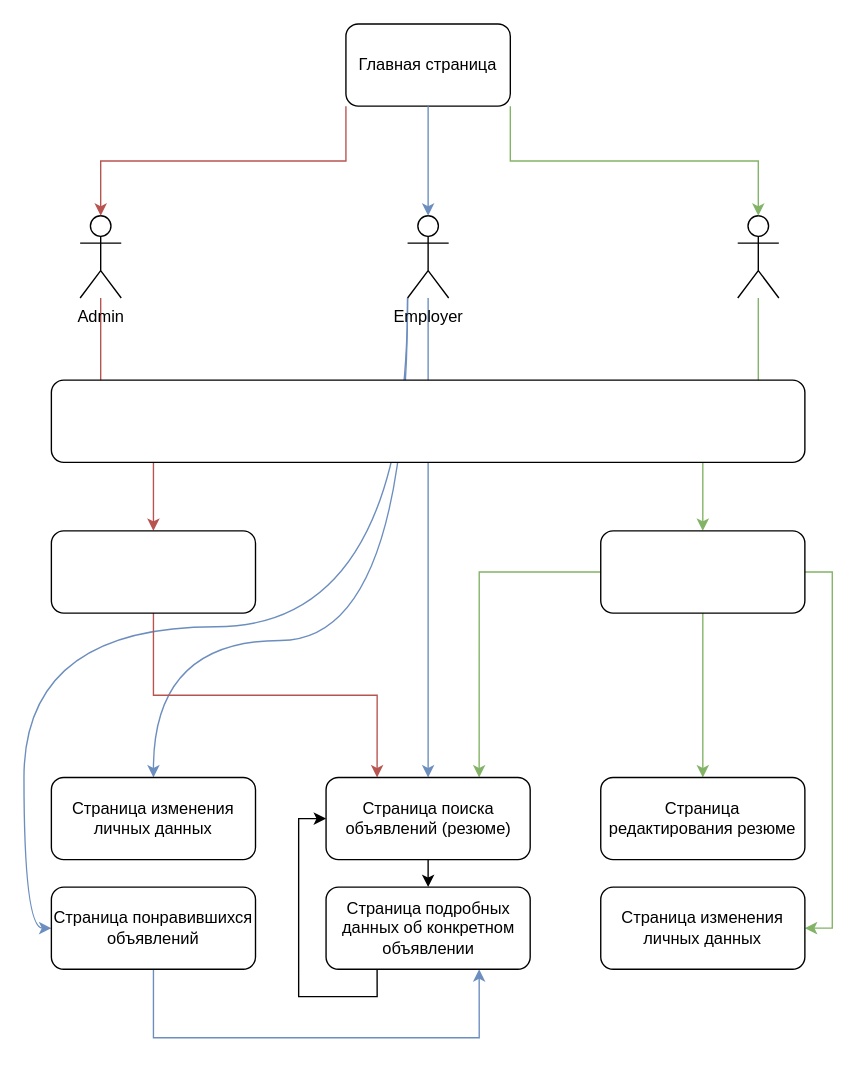
Some shapes in this 867 by 1073 pixel diagram are drawn without their labels. The shapes that lost their labels are listed below. From the top down, each one's box as (x1, y1, x2, y2) in pixels, then its label:
(736, 214, 779, 298): Candidate
(50, 379, 805, 462): Аутенфикация / Регистрация
(50, 530, 256, 613): Страница администрирования
(599, 530, 805, 613): Страница создания / редактирования резюме
